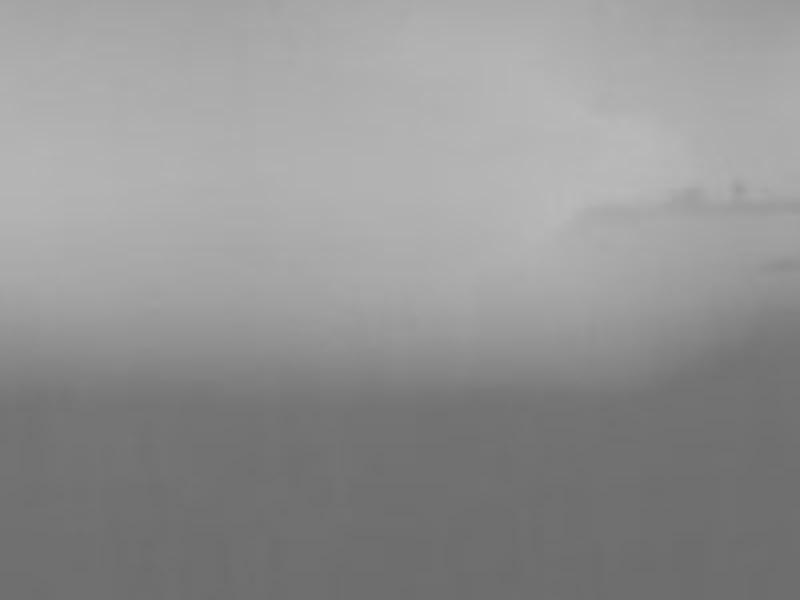defect: (670, 183, 710, 212), (731, 180, 751, 203)
